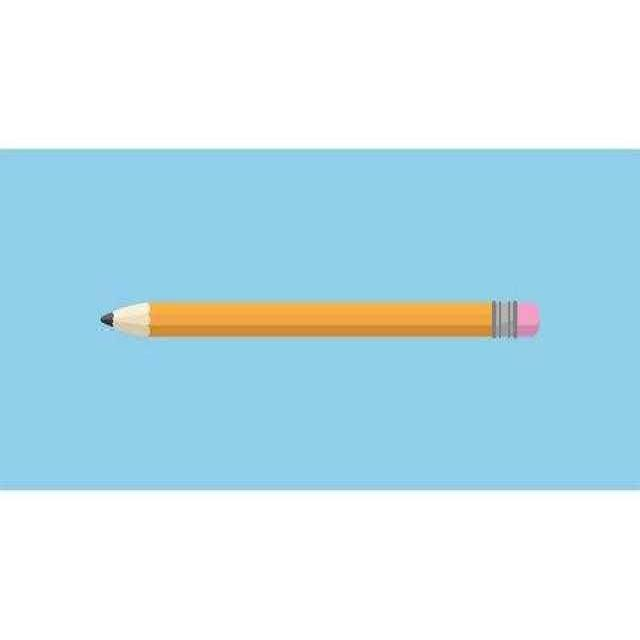pencil: (74, 273, 588, 359)
